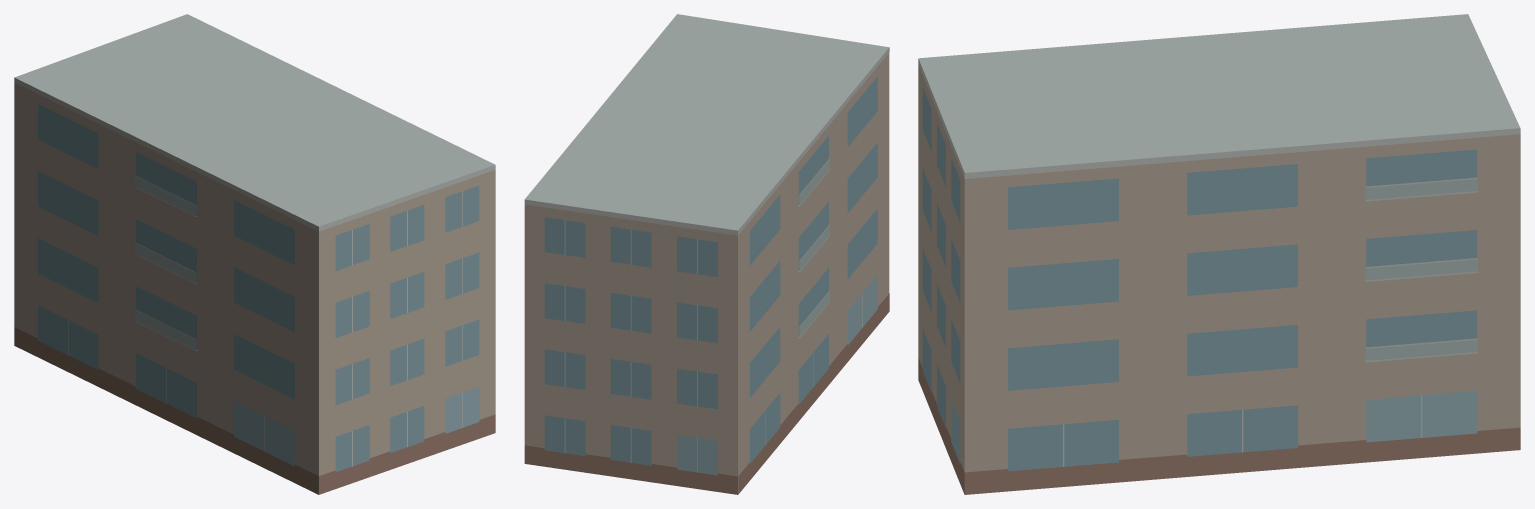
File: survey-upis-32740405.glb
3 views of the same model, side by side, from view 1: azimuth 30°, elevation 25°; view 2: azimuth 150°, elevation 25°; view 3: azimuth 270°, elevation 25° (orthographic). The views are drawn at different scales.
Visible parts, largest first — view 1: survey-upis-32740405.tmp; view 2: survey-upis-32740405.tmp; view 3: survey-upis-32740405.tmp.
Part boxes in pixels (x1,y1,x2,y2): survey-upis-32740405.tmp: (14,14,495,494); survey-upis-32740405.tmp: (524,14,889,494); survey-upis-32740405.tmp: (918,14,1520,494).
Size of the model in its own units: 13.84 by 13.05 by 22.14.
